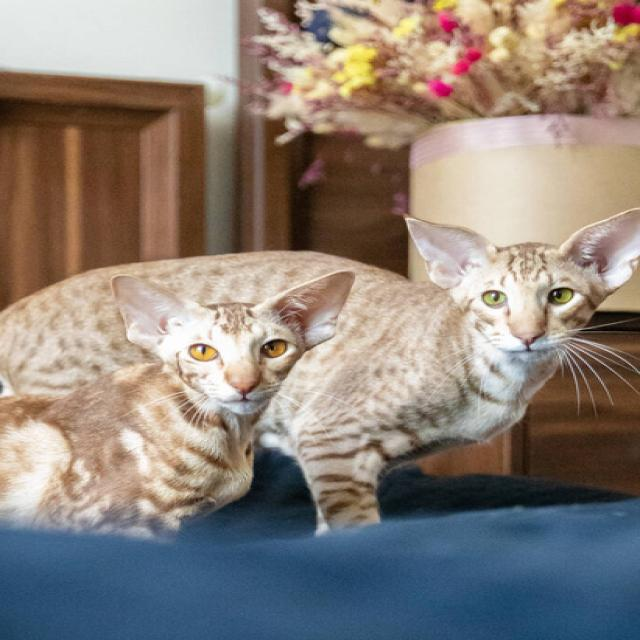Oriental: (307, 195, 640, 537), (0, 266, 360, 542)
